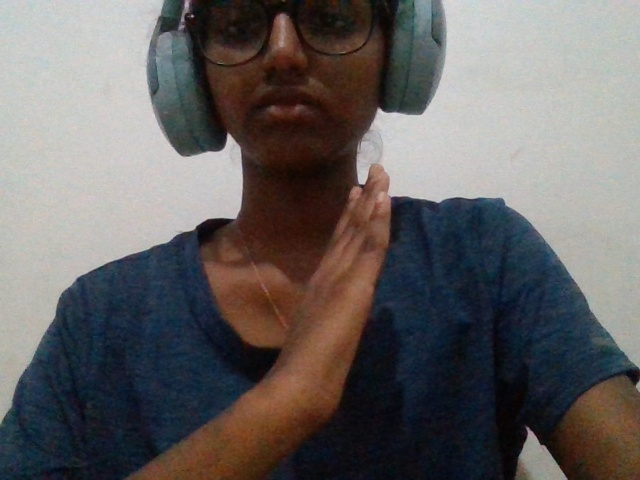Fine: (242, 107, 434, 451)
